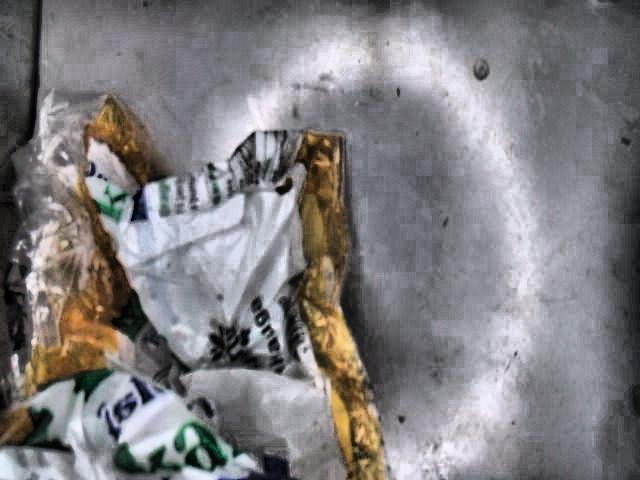Plastic: (0, 91, 399, 480)
